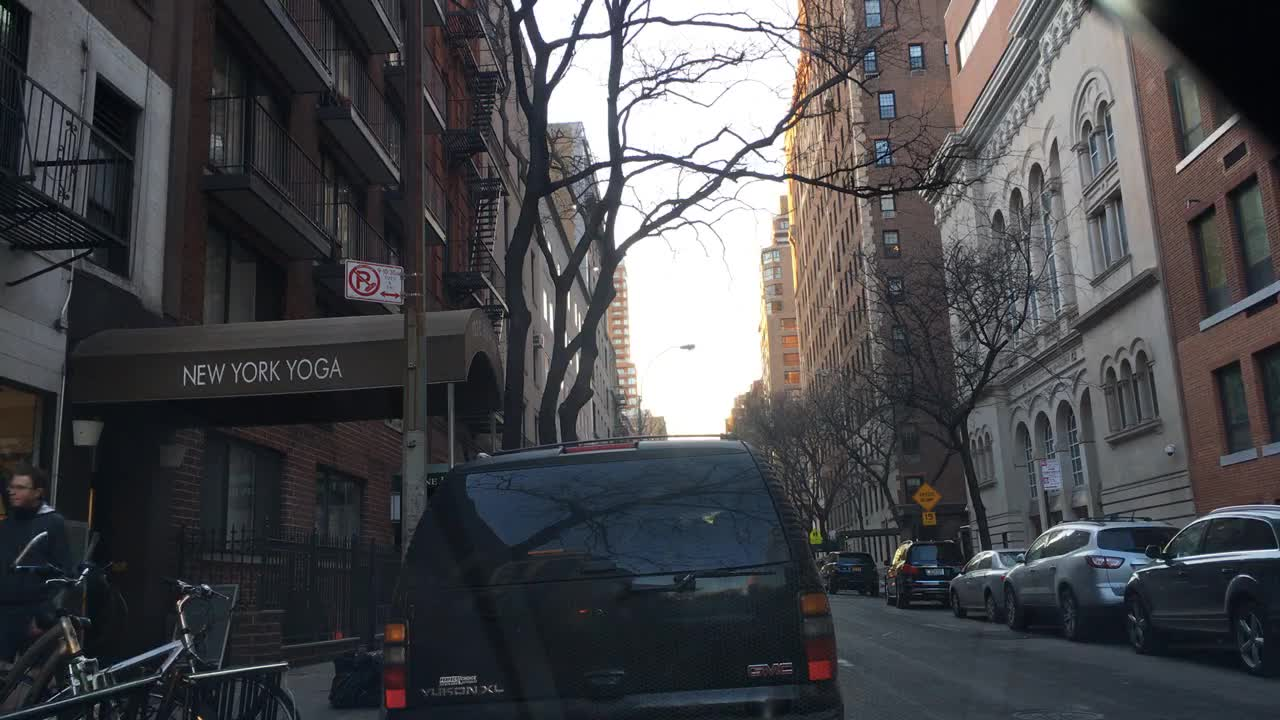bike: (1, 575, 303, 716), (0, 526, 212, 718)
car: (378, 430, 845, 714), (1120, 501, 1277, 677), (1000, 514, 1180, 641), (880, 536, 970, 611), (945, 546, 1029, 623), (823, 551, 880, 598), (814, 554, 829, 575)
person: (2, 460, 71, 717)
traffic sign: (340, 257, 406, 305), (910, 484, 939, 510), (919, 507, 937, 529), (811, 529, 821, 542)
